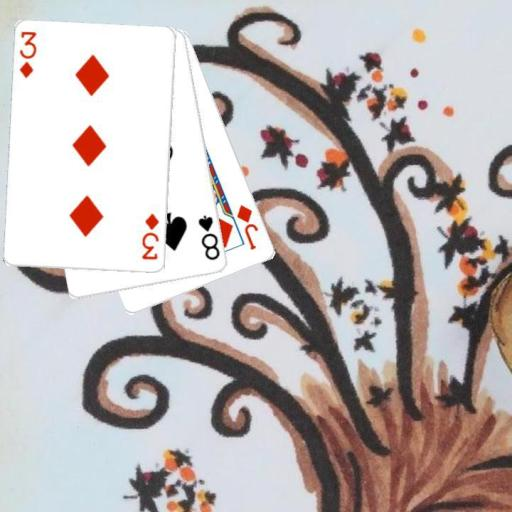3D: (17, 29, 39, 81), (139, 211, 161, 262)
8S: (195, 212, 222, 262)
JD: (234, 201, 260, 252)
